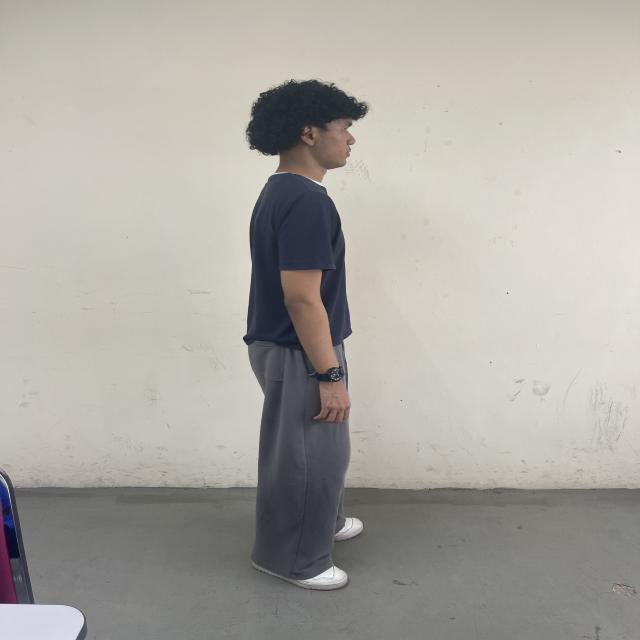person_without_labcoat: (243, 80, 367, 590)
